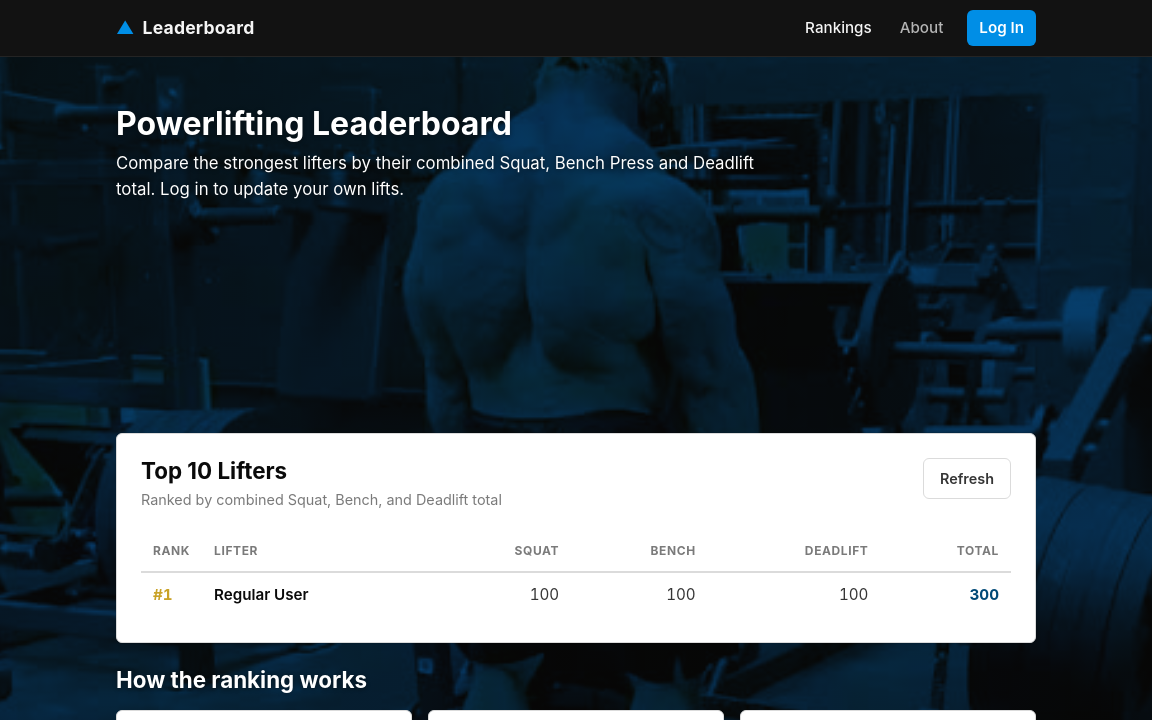
Scenario: Admin visibility › does not show the User Management panel after a normal-role login
Expected: the text "Regular User" is shown, [214,585,309,604]
Click the link "Log In": (1002, 28) [967,10,1036,46]
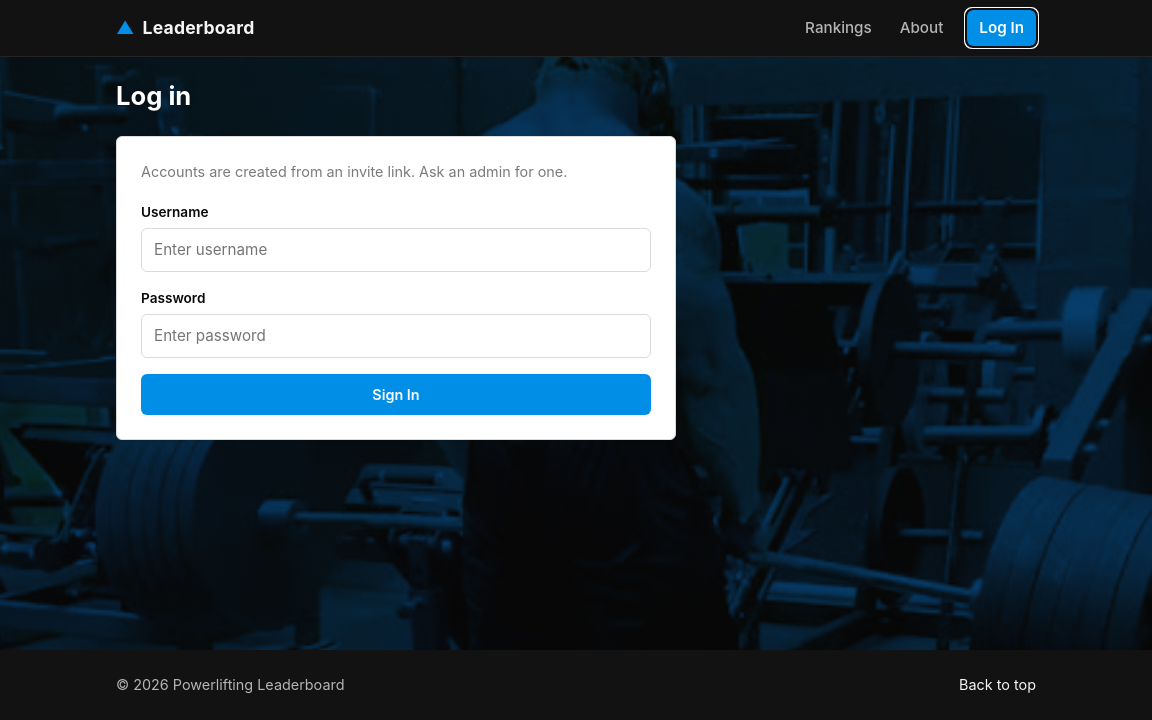
In the field labelled "Username": (396, 250) [141,228,651,272], type "regularuser"
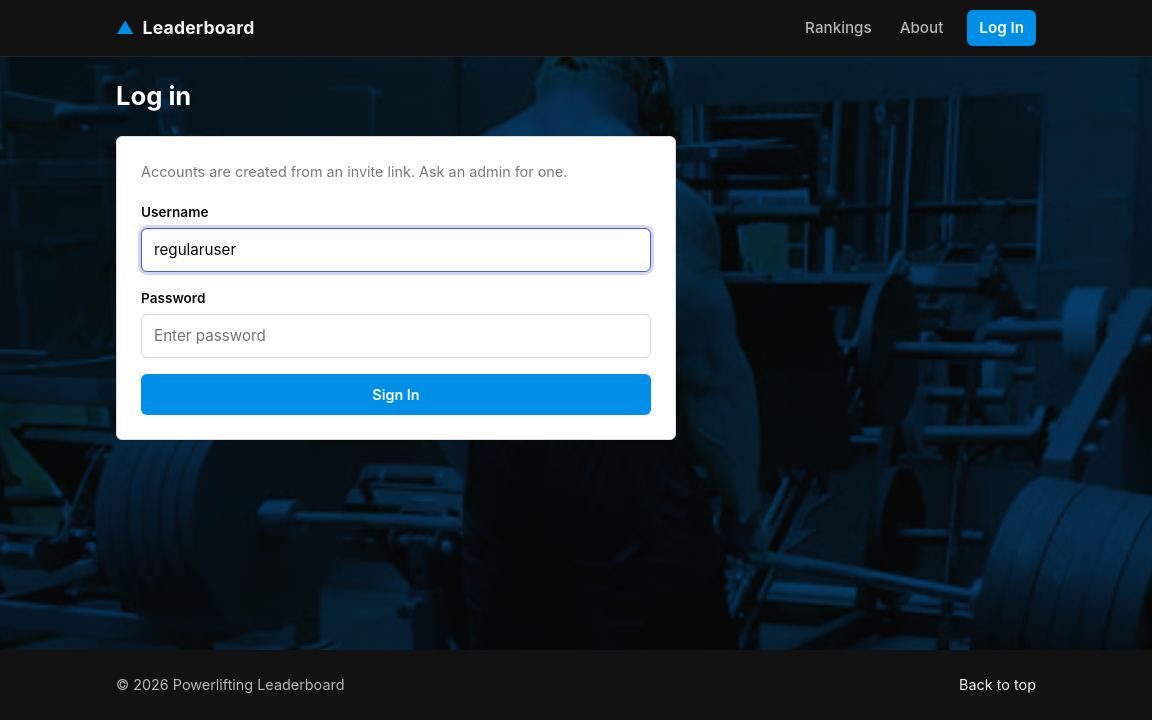
In the password field labelled "Password": (396, 336) [141,314,651,358], type "secret123"
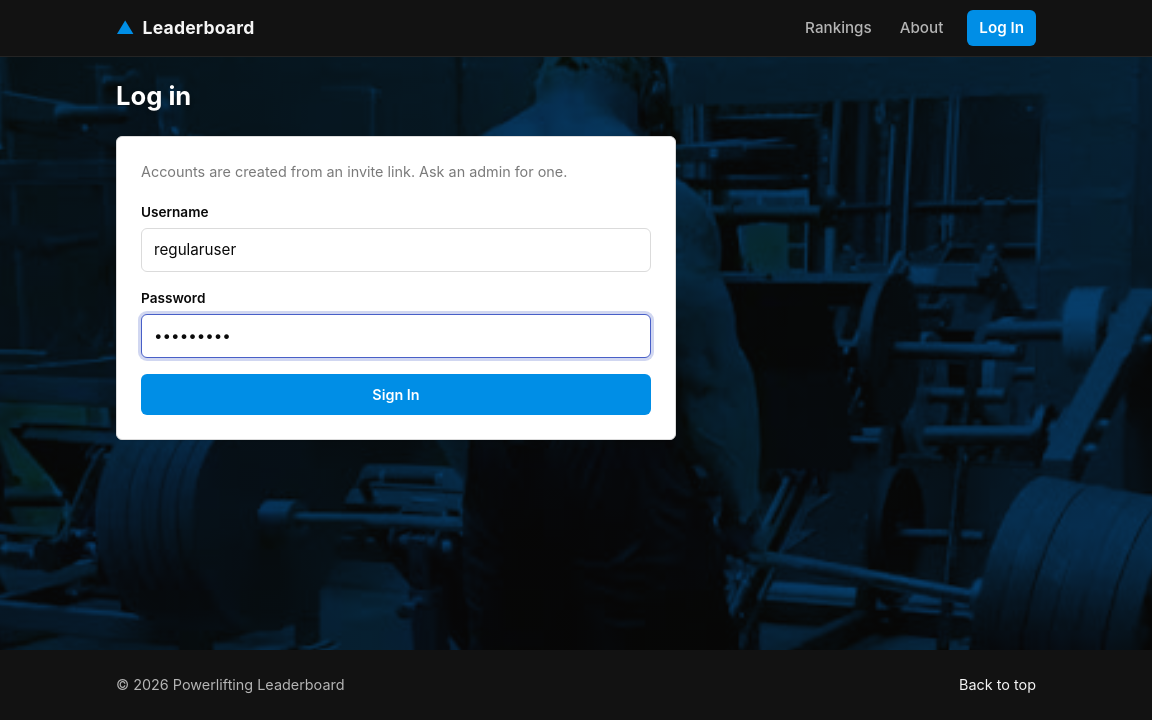
Click the button "Sign In": (396, 395) [141,374,651,415]
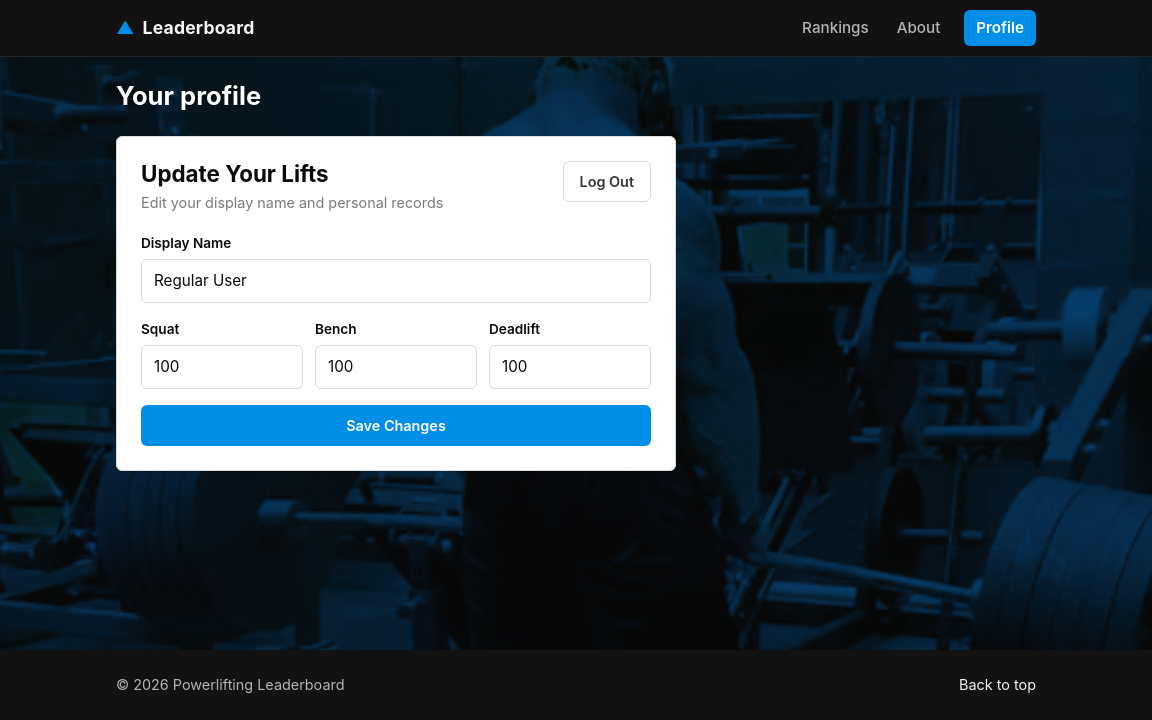
Expected: the field labelled "Display Name" is shown, [141,259,651,303]
